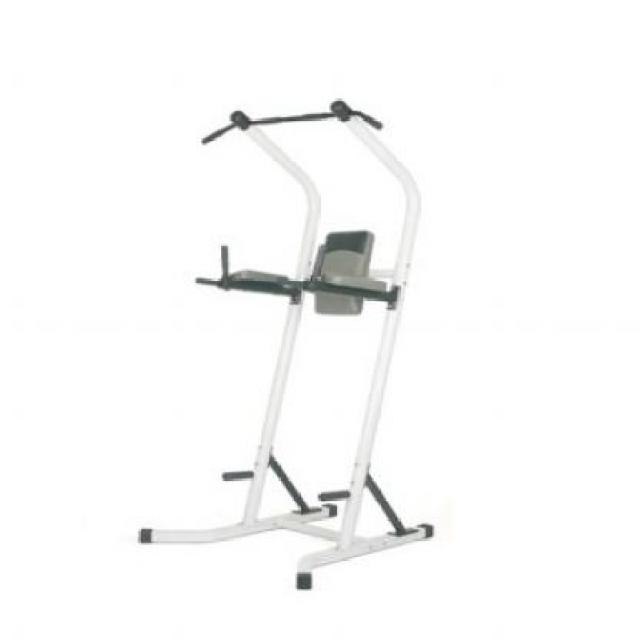chinning dipping: (138, 98, 437, 590)
